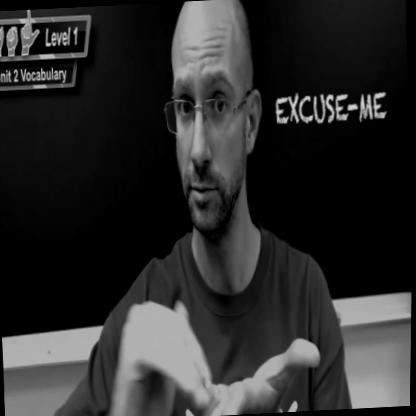ExcuseMe: (98, 276, 328, 416)
